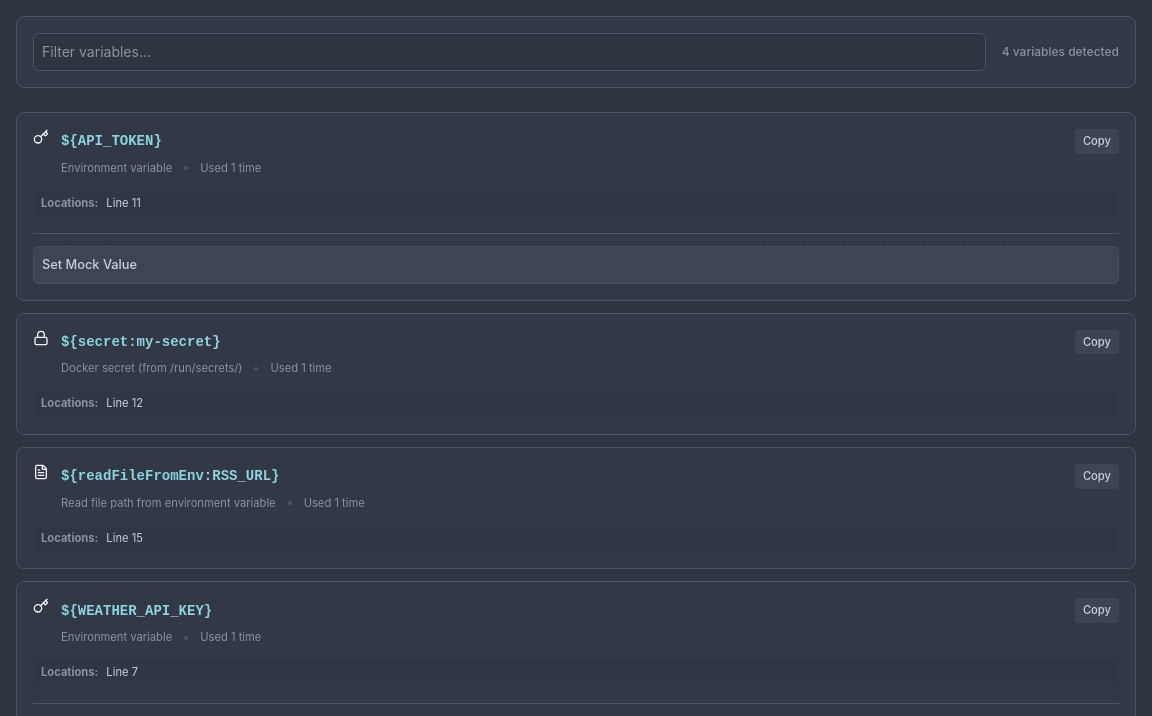
Test case: EnvVarManager › shows mock value editor when Set Mock Value is clicked
Click the button "Set Mock Value" below "Line 11".
click(90, 265)  # box left=33, top=246, right=1119, bottom=284
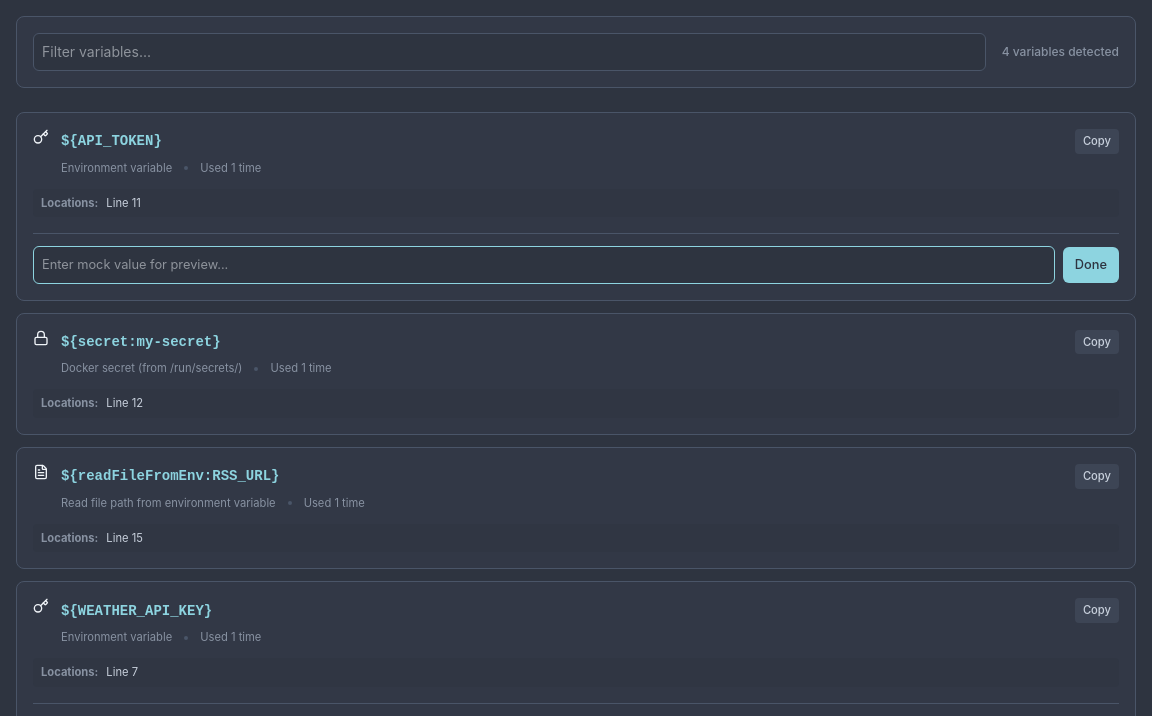
Check: the field with placeholder "Enter mock value for preview..." is shown, box left=33, top=246, right=1055, bottom=284
Check: the button "Done" is shown, box left=1063, top=247, right=1119, bottom=283
